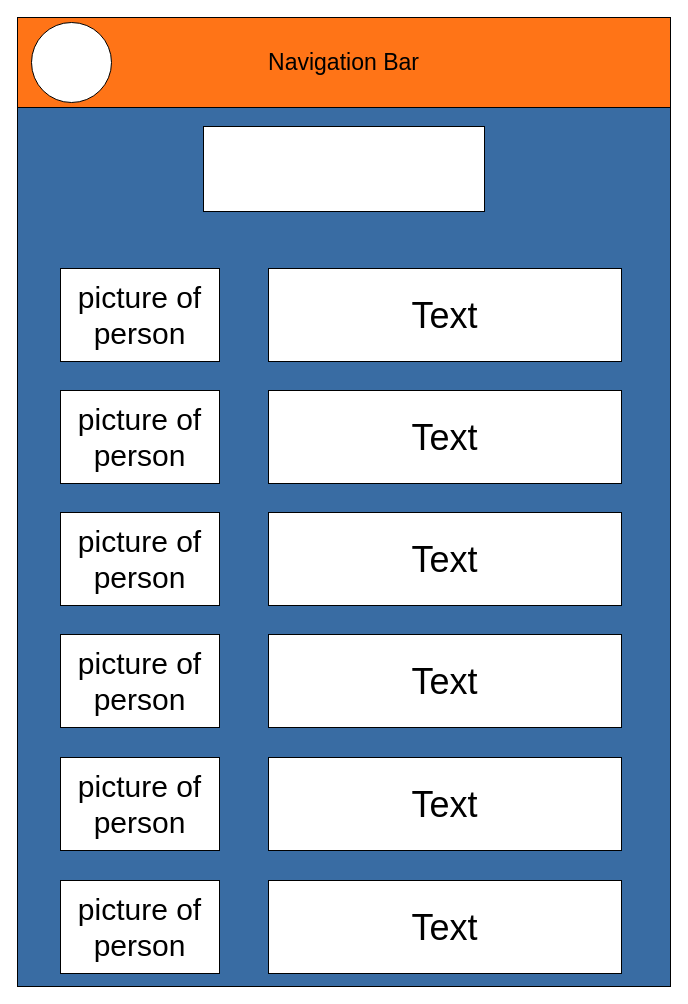
Image size: 688x1004. Some labels were removed from this diagram. The centre of each missing label's shape, as x and y in pixels:
"About Us" belongs at point 343,169.
"Logo" belongs at point 71,62.
